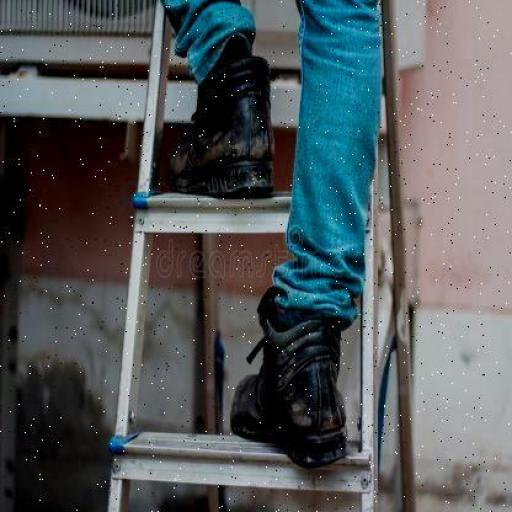safety_shoe: (229, 311, 354, 468), (166, 59, 277, 209)
